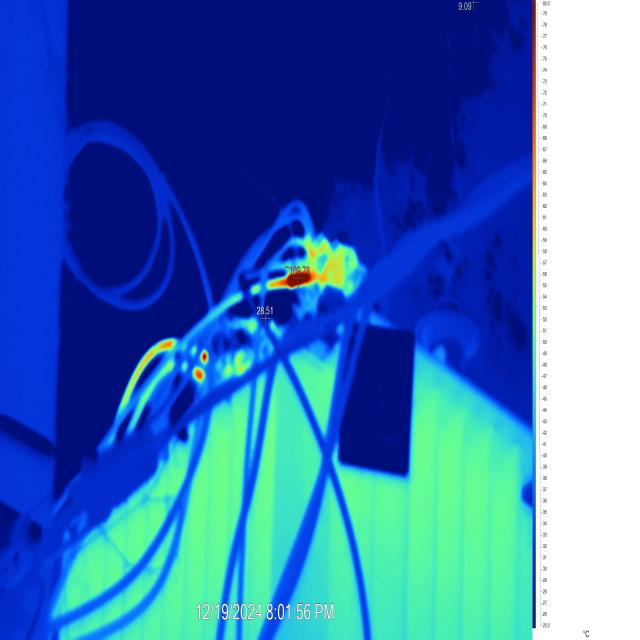Transformer: (7, 103, 532, 638)
